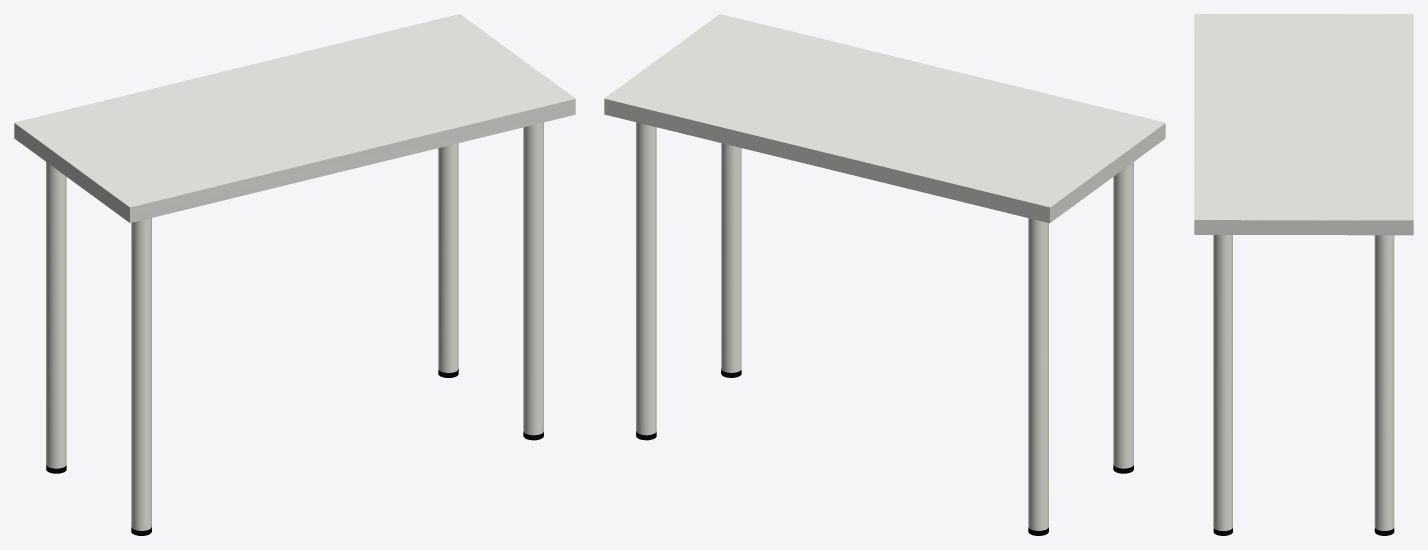
Rendered from linnmon_adils_sto_49590153.glb.
3 views of the same model, side by side, from view 1: azimuth 30°, elevation 25°; view 2: azimuth 150°, elevation 25°; view 3: azimuth 270°, elevation 25° (orthographic). The views are drawn at different scales.
Visible parts, largest first — view 1: linnmon_adils_sto_49590153; view 2: linnmon_adils_sto_49590153; view 3: linnmon_adils_sto_49590153.
Part boxes in pixels (bbox=[...]): linnmon_adils_sto_49590153: bbox=[14, 14, 575, 535]; linnmon_adils_sto_49590153: bbox=[604, 14, 1165, 535]; linnmon_adils_sto_49590153: bbox=[1194, 14, 1413, 535].
Size of the model in its own units: 1 by 0.7331 by 0.45.
1 material, 1 textured.
